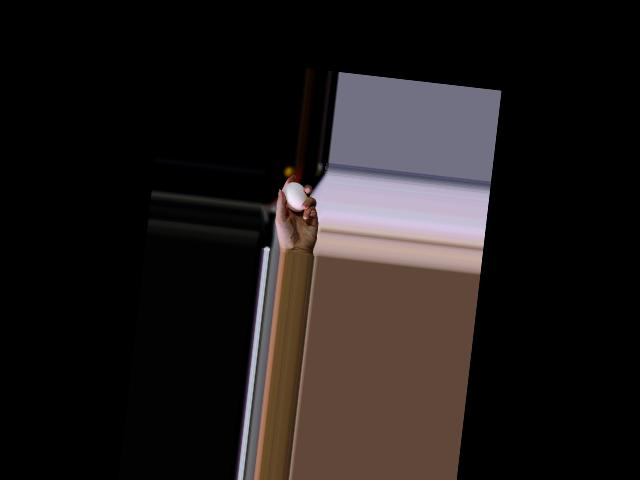egg: (281, 180, 309, 212)
